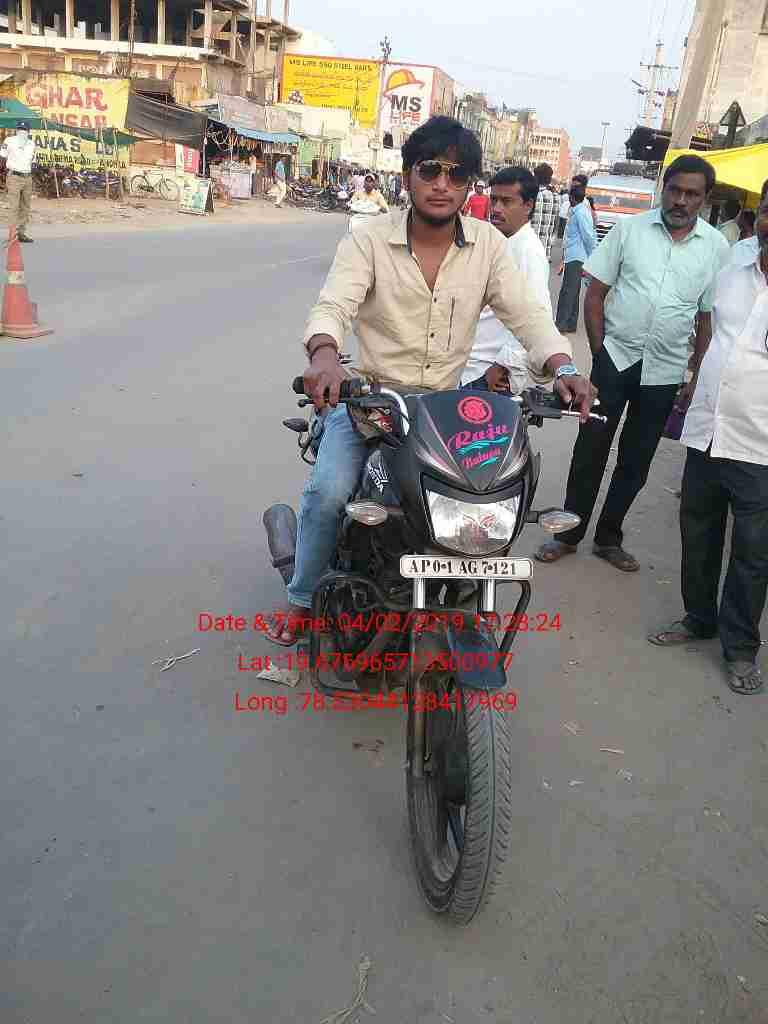plate: (396, 550, 549, 588)
